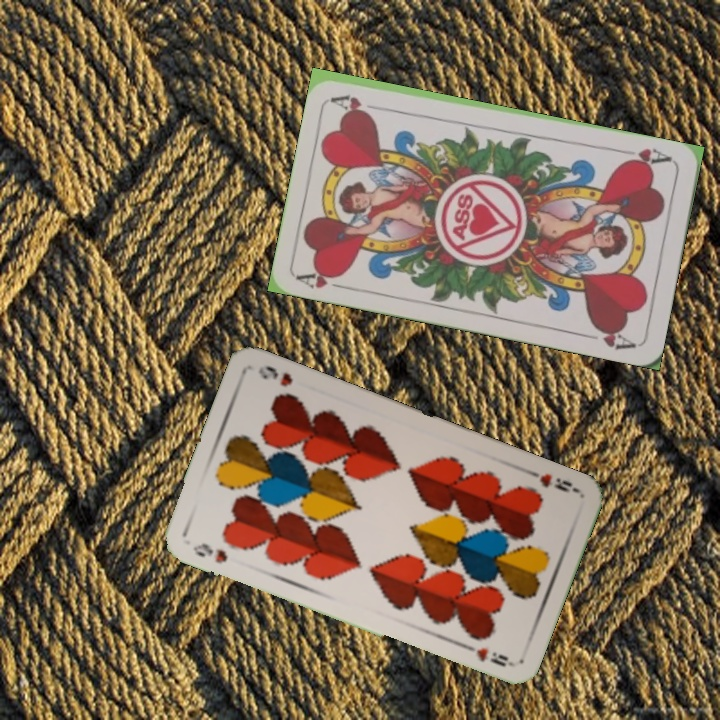H9: (523, 466, 580, 495), (189, 539, 230, 566)
HA: (295, 264, 353, 293), (619, 144, 674, 170)
